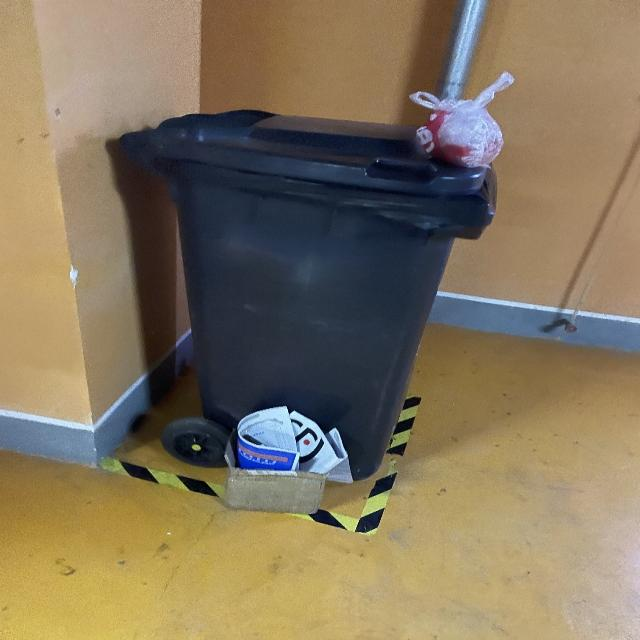garbage: (219, 406, 353, 513)
overflow: (122, 70, 510, 478)
